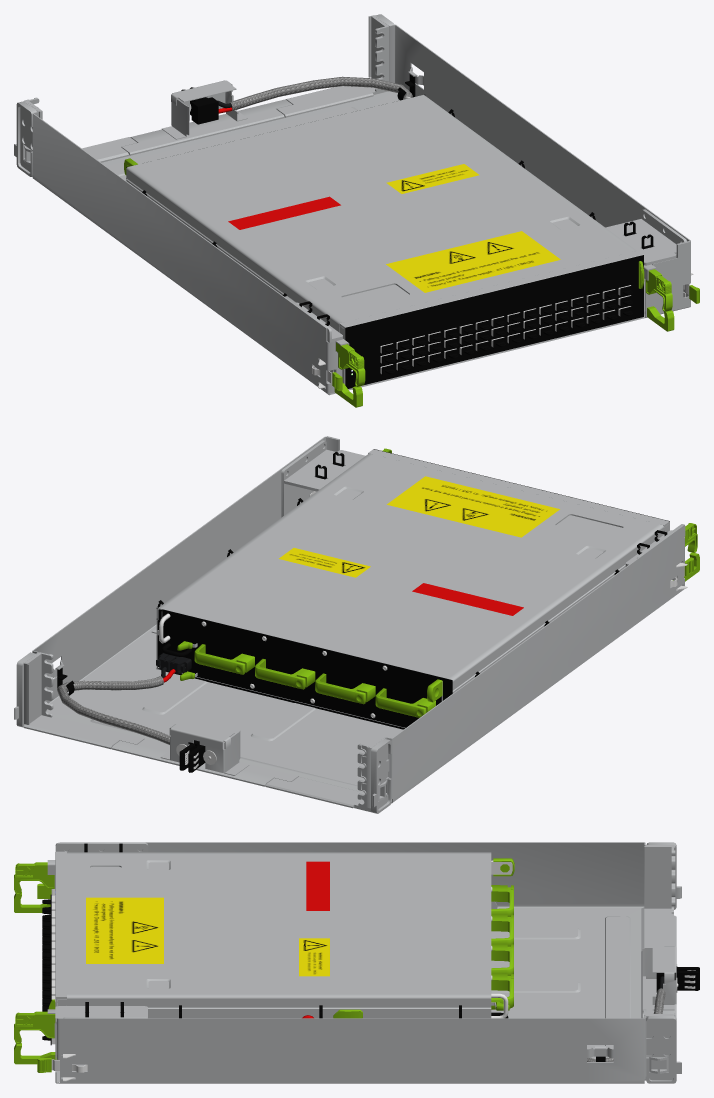
The model's file is wedge-400-c.glb.
3 views of the same model, one above another, from view 1: azimuth 30°, elevation 25°; view 2: azimuth 150°, elevation 25°; view 3: azimuth 270°, elevation 25° (orthographic).
Visible parts, largest first — view 1: WDG 400C Module; view 2: WDG 400C Module; view 3: WDG 400C Module.
Part boxes in pixels (box(x1,y1,x2,y2)): WDG 400C Module: box(14, 14, 699, 407); WDG 400C Module: box(14, 436, 699, 813); WDG 400C Module: box(14, 842, 699, 1083).
Bounding box in the file's own units: 4.93 × 0.8456 × 7.87.
Materials: 12 (4 with a texture image).
